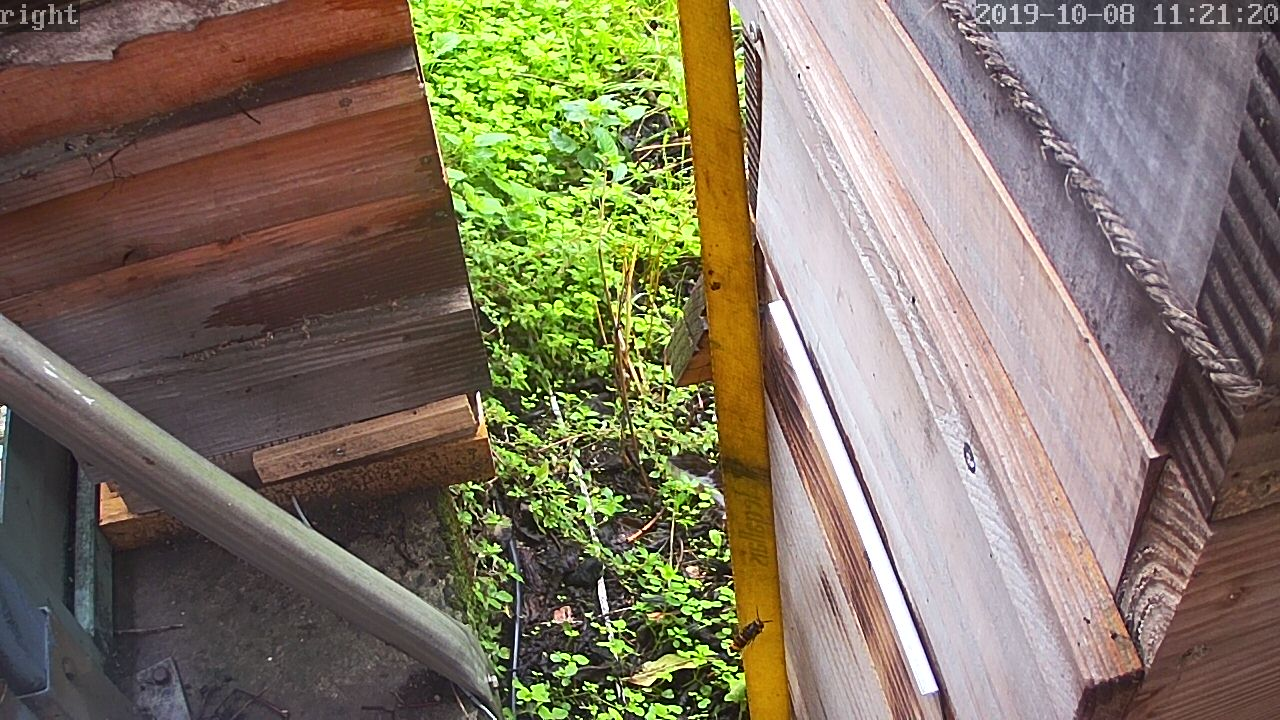hornet: (729, 608, 773, 647)
